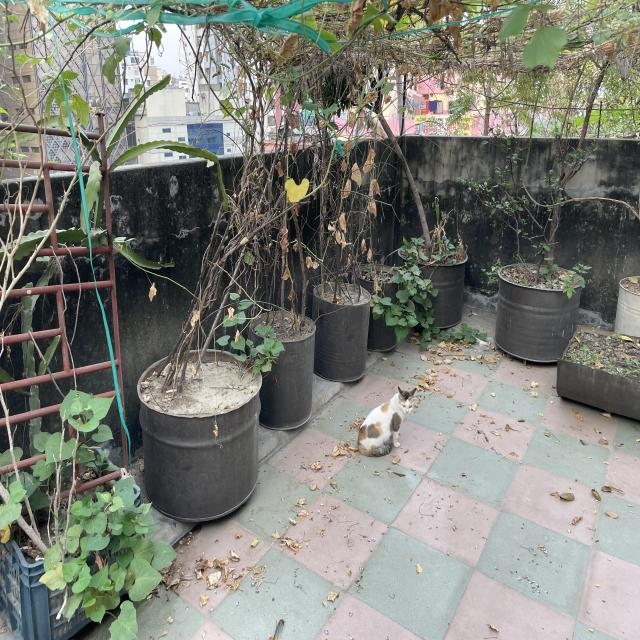Breeding Place: (137, 347, 262, 526), (498, 252, 578, 377), (240, 310, 320, 424), (305, 277, 376, 395), (566, 321, 640, 421), (403, 230, 469, 334), (363, 257, 405, 351)
